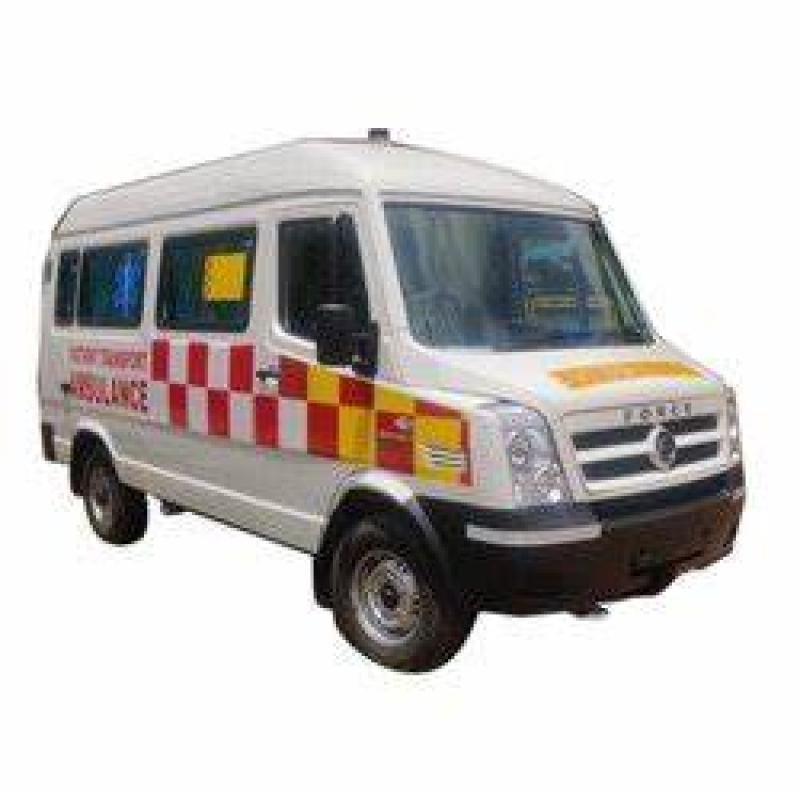AmbulanceSiren: (349, 116, 405, 163)
